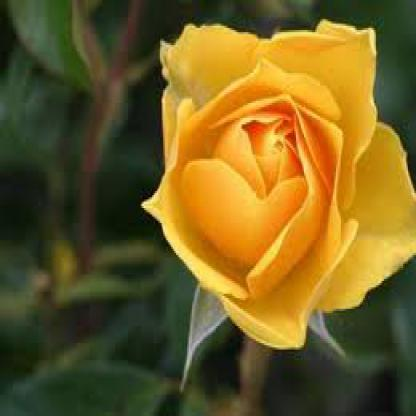Rose-Mawar: (145, 10, 415, 353)
